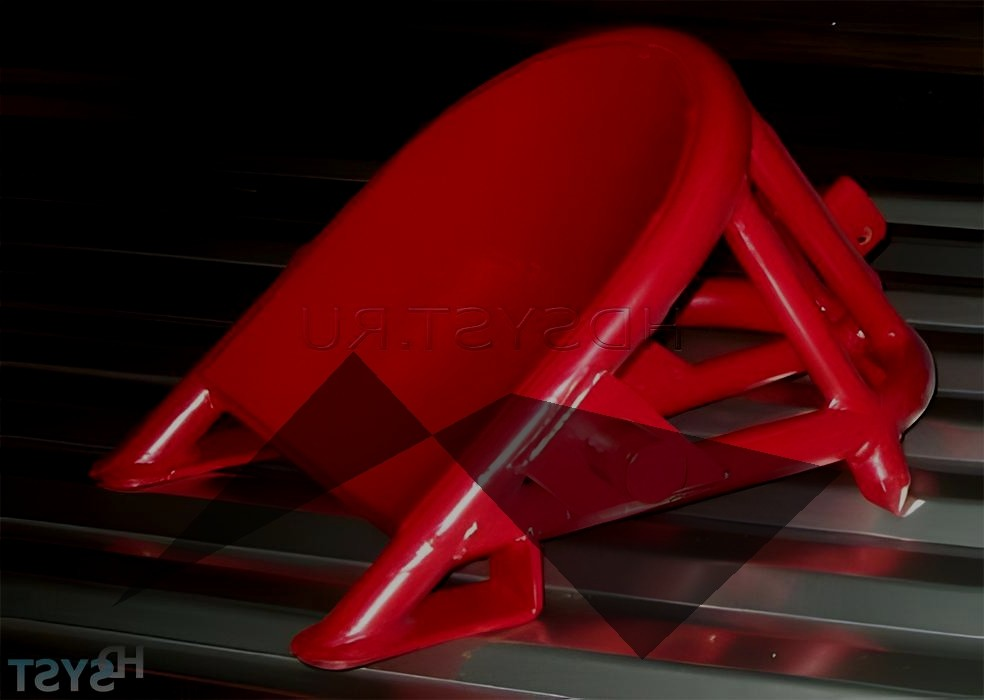chock: (81, 13, 967, 676)
